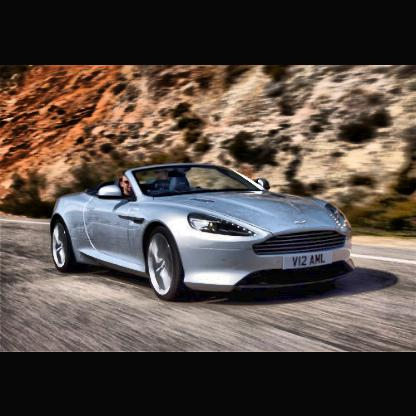Aston Martin Virage Convertible 2012: (48, 160, 360, 307)
